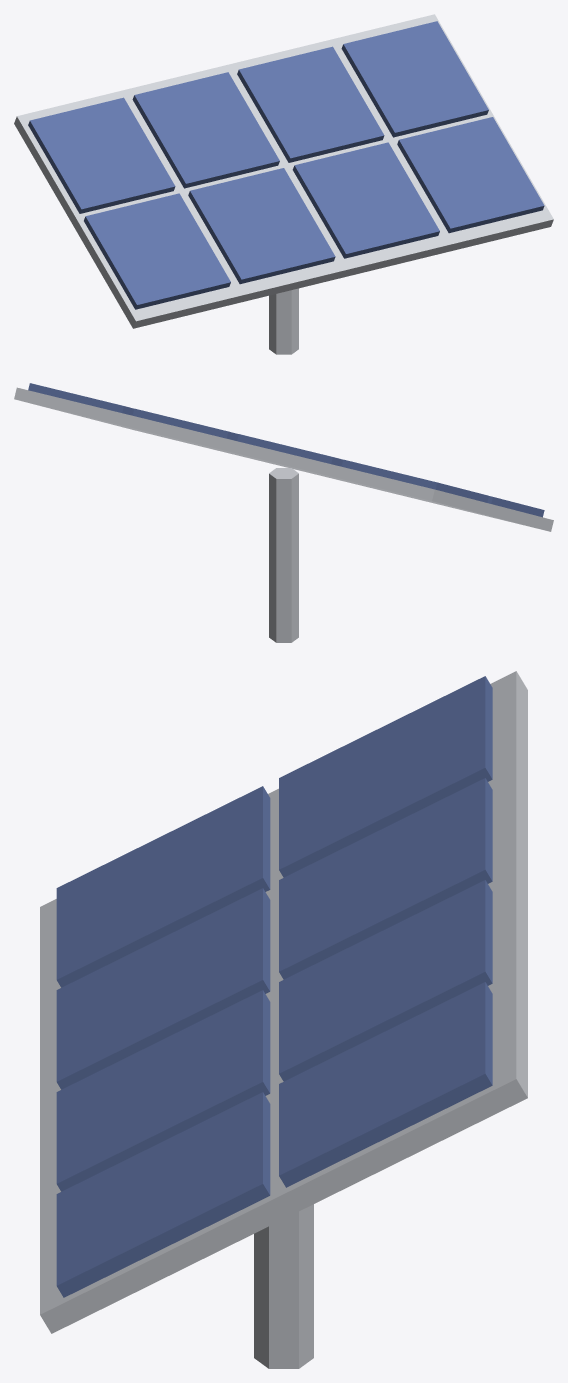
The model's file is arena_solar.glb.
3 views of the same model, one above another, from view 1: azimuth 30°, elevation 25°; view 2: azimuth 150°, elevation 25°; view 3: azimuth 270°, elevation 25° (orthographic). The views are drawn at different scales.
Visible parts, largest first — view 1: arena_solar; view 2: arena_solar; view 3: arena_solar.
Part boxes in pixels (left/top/right/bottom): arena_solar: left=14, top=14, right=553, bottom=354; arena_solar: left=14, top=383, right=553, bottom=642; arena_solar: left=40, top=671, right=527, bottom=1368.
Size of the model in its own units: 3.2 by 1.77 by 1.62.
